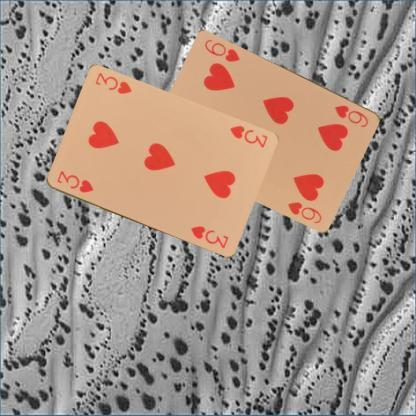3h: (227, 123, 269, 149), (54, 168, 94, 194)
6h: (332, 102, 369, 128)
